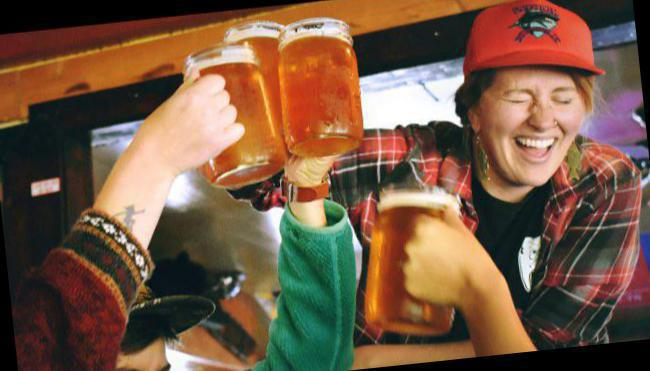Drunk: (496, 71, 579, 186)
